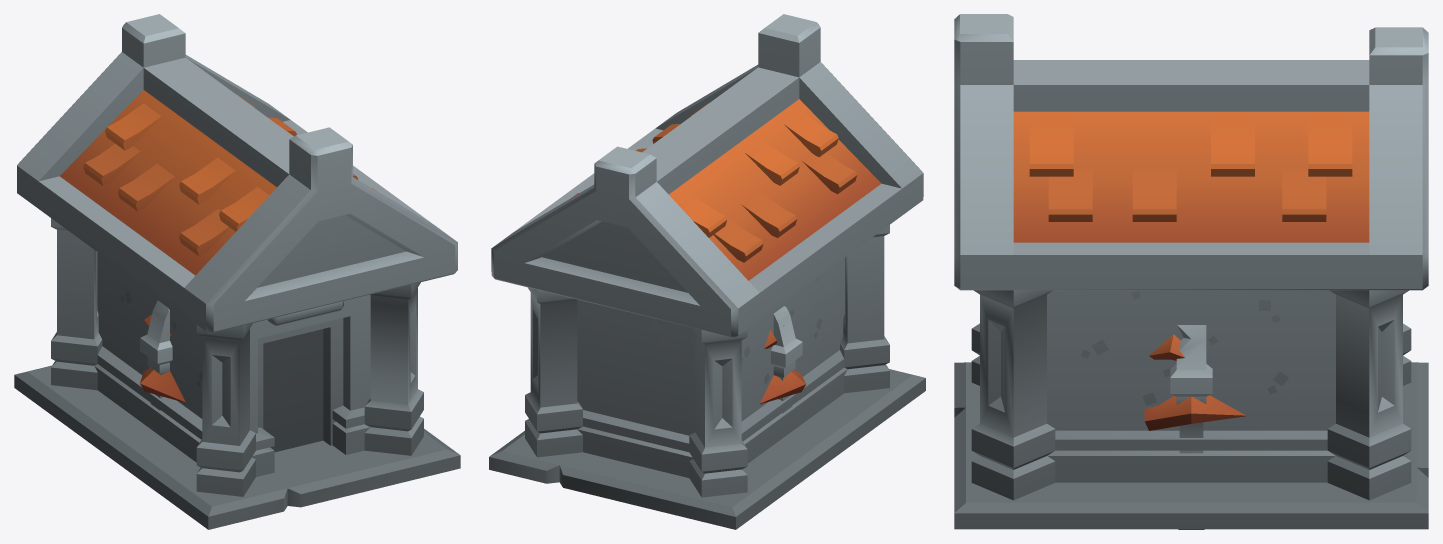
3 views of the same model, side by side, from view 1: azimuth 30°, elevation 25°; view 2: azimuth 150°, elevation 25°; view 3: azimuth 270°, elevation 25° (orthographic). The views are drawn at different scales.
Visible parts, largest first — view 1: crypt, arch, tree_pine_orange_large; view 2: crypt, arch, tree_pine_orange_large; view 3: crypt, arch, tree_pine_orange_large.
Boxes of the visible parts, bbox=[...] form: crypt: bbox=[14, 14, 460, 529]; arch: bbox=[140, 300, 172, 434]; tree_pine_orange_large: bbox=[140, 314, 185, 402]; crypt: bbox=[489, 14, 925, 529]; arch: bbox=[771, 306, 802, 433]; tree_pine_orange_large: bbox=[760, 325, 806, 404]; crypt: bbox=[954, 14, 1428, 529]; arch: bbox=[1170, 325, 1212, 453]; tree_pine_orange_large: bbox=[1144, 334, 1245, 430].
Size of the model in its own units: 6 by 9.31 by 8.
1 material, 1 textured.
